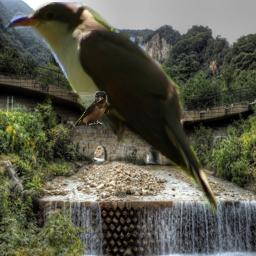Cuckoo: (3, 2, 217, 215)
Swallow: (74, 91, 109, 131)
